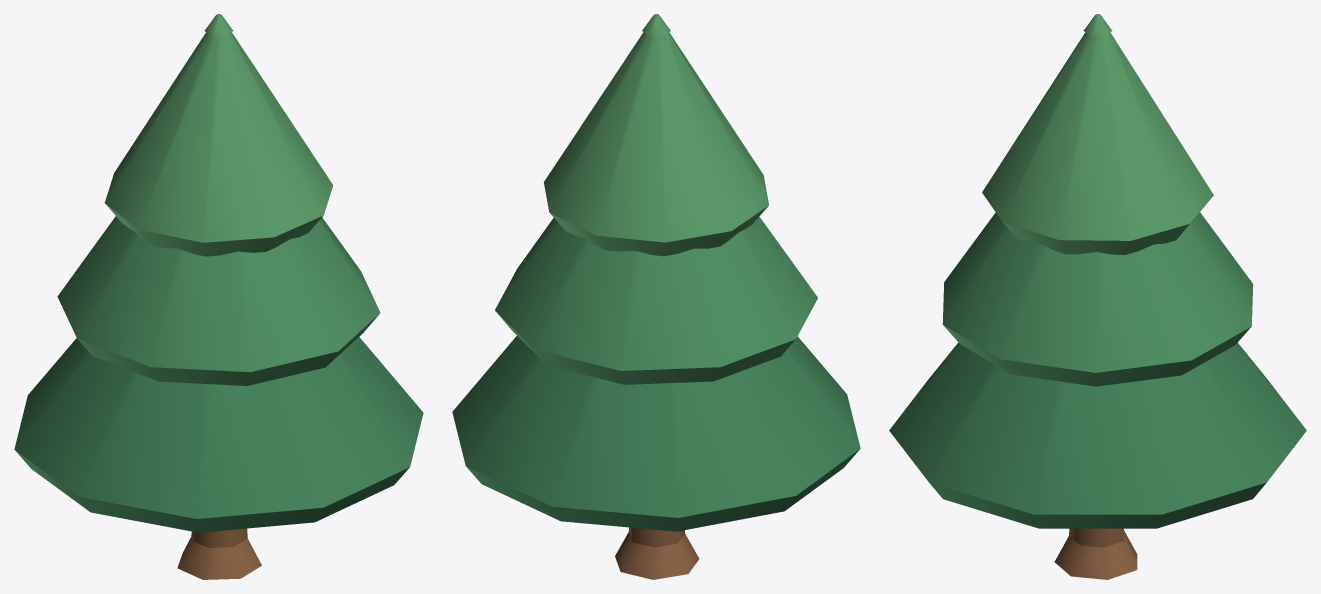
Rendered from pine_tree.glb.
3 renders of one model, left to right at view 1: azimuth 30°, elevation 25°; view 2: azimuth 150°, elevation 25°; view 3: azimuth 270°, elevation 25°, orthographic.
Parts seen in each view (by area): view 1: pine_layer_bottom, pine_layer_middle, pine_layer_top, pine_layer_bottom_rim, pine_layer_middle_rim, trunk_flare, pine_layer_top_rim, trunk; view 2: pine_layer_bottom, pine_layer_middle, pine_layer_top, pine_layer_bottom_rim, pine_layer_middle_rim, trunk_flare, pine_layer_top_rim, trunk; view 3: pine_layer_bottom, pine_layer_middle, pine_layer_top, pine_layer_bottom_rim, pine_layer_middle_rim, trunk_flare, pine_layer_top_rim, trunk.
Part boxes in pixels (x1,y1,x2,y2): pine_layer_bottom: (14,337,423,518); pine_layer_middle: (57,216,380,372); pine_layer_top: (104,32,333,242); pine_layer_bottom_rim: (15,450,409,532); pine_layer_middle_rim: (77,314,379,385); trunk_flare: (177,537,261,579); pine_layer_top_rim: (105,203,322,256); trunk: (191,528,247,547); pine_layer_bottom: (452,336,860,517); pine_layer_middle: (495,216,817,370); pine_layer_top: (543,32,768,242); pine_layer_bottom_rim: (466,449,859,531); pine_layer_middle_rim: (495,311,795,384); trunk_flare: (615,532,699,579); pine_layer_top_rim: (550,206,768,256); trunk: (628,527,684,547); pine_layer_bottom: (889,342,1306,514); pine_layer_middle: (942,212,1253,372); pine_layer_top: (982,32,1213,240); pine_layer_bottom_rim: (929,482,1266,528); pine_layer_middle_rim: (943,325,1250,386); trunk_flare: (1054,530,1137,579); pine_layer_top_rim: (1002,212,1199,254); trunk: (1069,528,1123,547).
Bounding box in the file's own units: 1.37 × 2.08 × 1.44.
